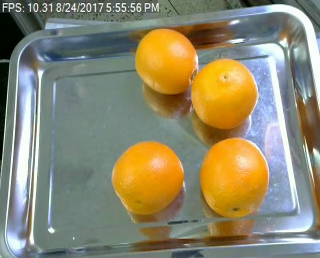Orange: (198, 136, 270, 217), (111, 139, 184, 214), (190, 57, 257, 129), (134, 28, 198, 94)
